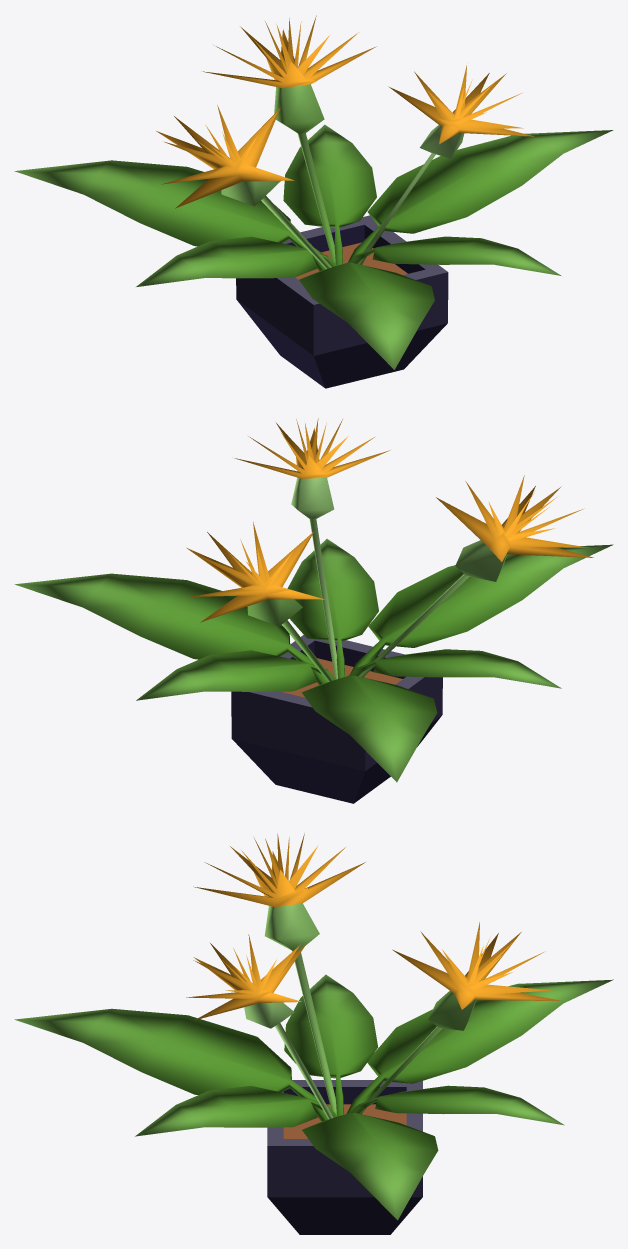
The model's file is pfp17.fbx.
3 renders of one model, top to bottom at view 1: azimuth 30°, elevation 25°; view 2: azimuth 150°, elevation 25°; view 3: azimuth 270°, elevation 25°, orthographic.
Visible parts, largest first — view 1: pfp17; view 2: pfp17; view 3: pfp17.
Part boxes in pixels (x1=…): pfp17: x1=14, y1=15, x2=613, y2=388; pfp17: x1=14, y1=418, x2=613, y2=803; pfp17: x1=14, y1=833, x2=613, y2=1234.
Size of the model in its own units: 77.09 by 43.17 by 77.45.
